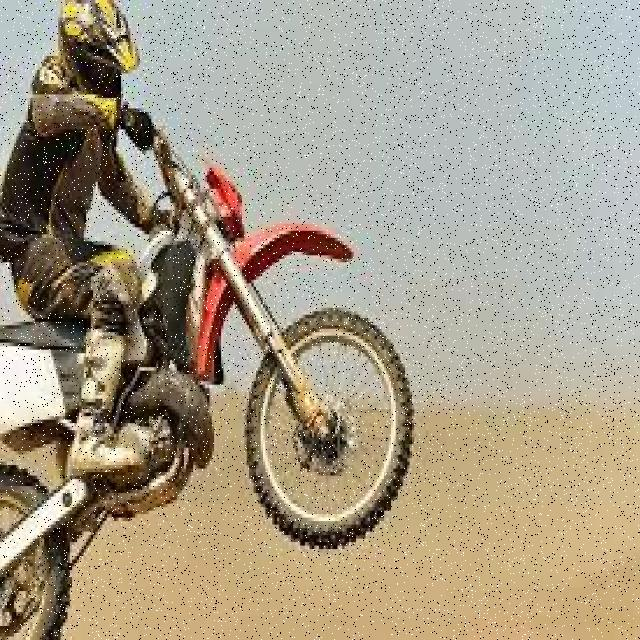Wheeling: (0, 0, 413, 640)
